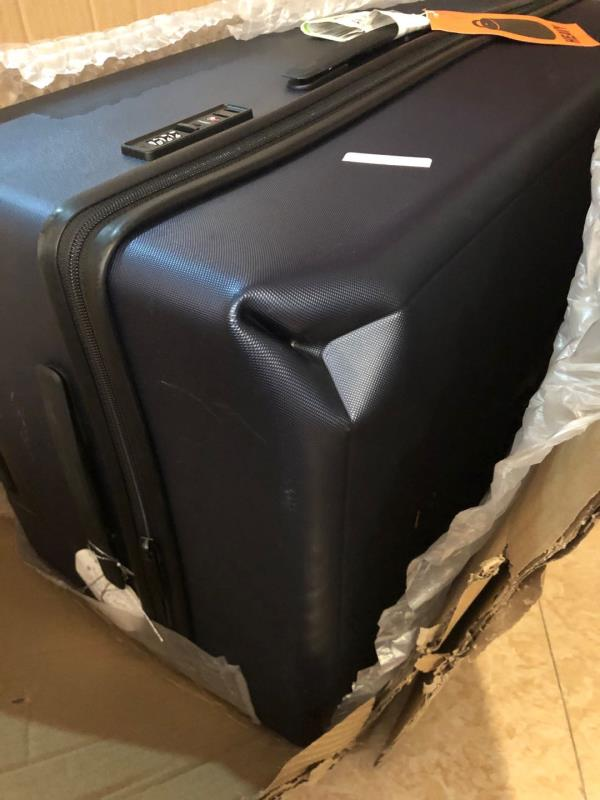rupture: (226, 283, 406, 433)
